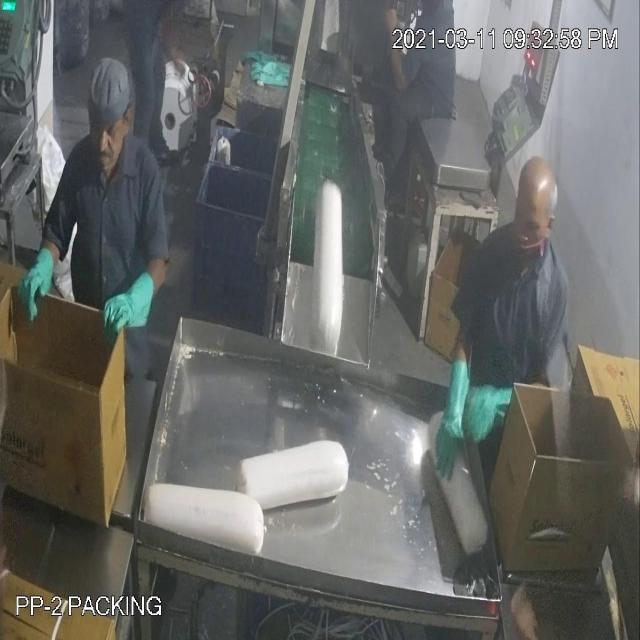gloves: (92, 266, 166, 354), (436, 354, 474, 474)
